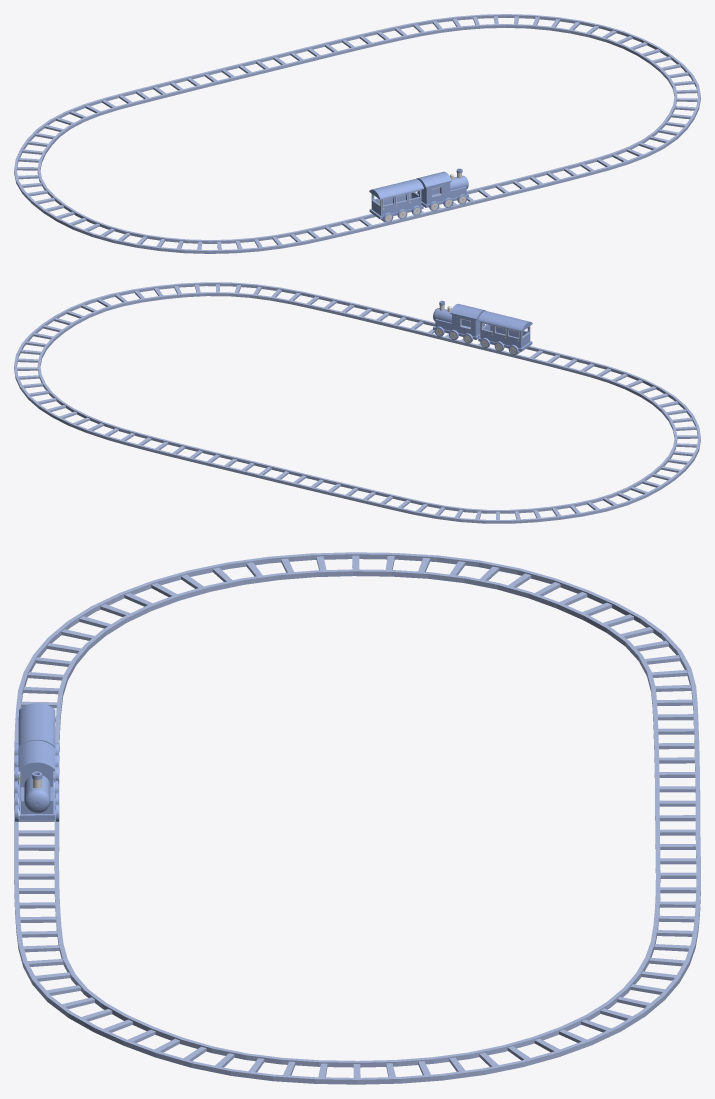
The model's file is Train.glb.
The picture shows the model from 3 angles, top to bottom: view 1: azimuth 30°, elevation 25°; view 2: azimuth 150°, elevation 25°; view 3: azimuth 270°, elevation 25°; orthographic projection. The views are drawn at different scales.
Visible parts, largest first — view 1: Rail, Train02, Train01; view 2: Rail, Train02, Train01; view 3: Rail, Train01, Train02.
Part boxes in pixels (x1,y1,x2,y2): Rail: (14,14,700,253); Train02: (369,179,423,222); Train01: (416,168,468,211); Rail: (14,282,700,523); Train02: (478,311,532,354); Train01: (433,300,485,343); Rail: (14,552,700,1084); Train01: (14,740,59,821); Train02: (14,703,59,783).
Bounding box in the file's own units: 8.47 × 0.4095 × 4.66.
